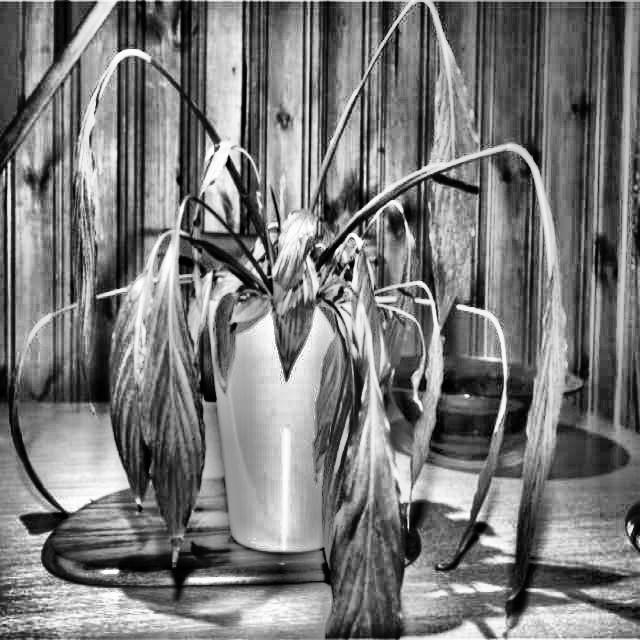plants: (290, 1, 580, 639), (2, 42, 284, 568)
